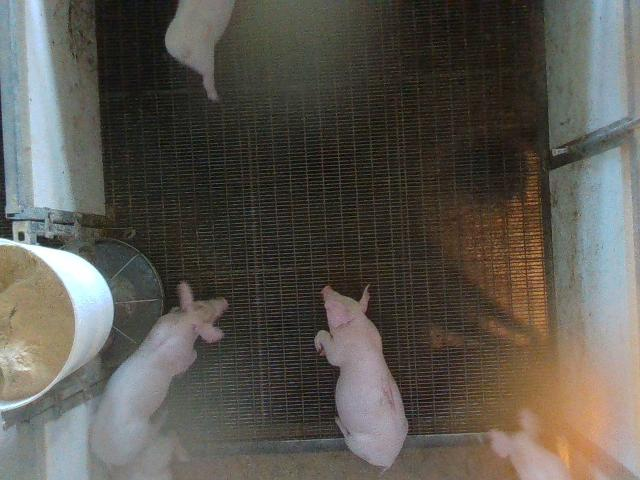pig-1: (314, 286, 408, 468)
